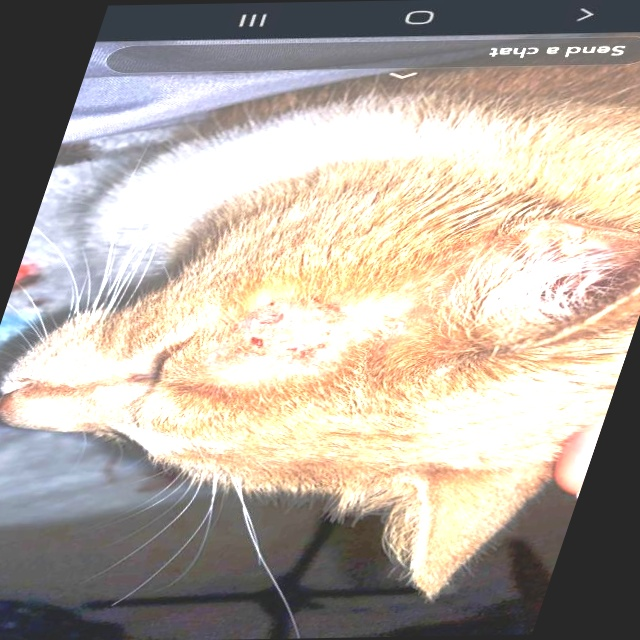ringworm: (226, 299, 404, 370)
